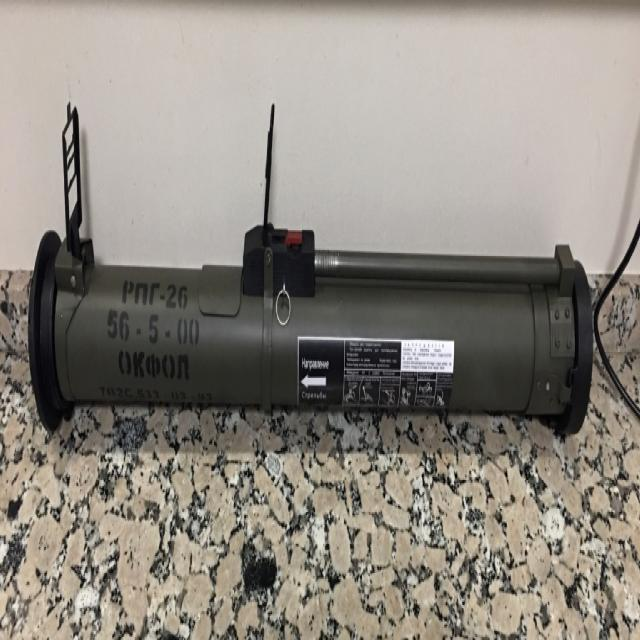bazooka: (22, 90, 603, 474)
